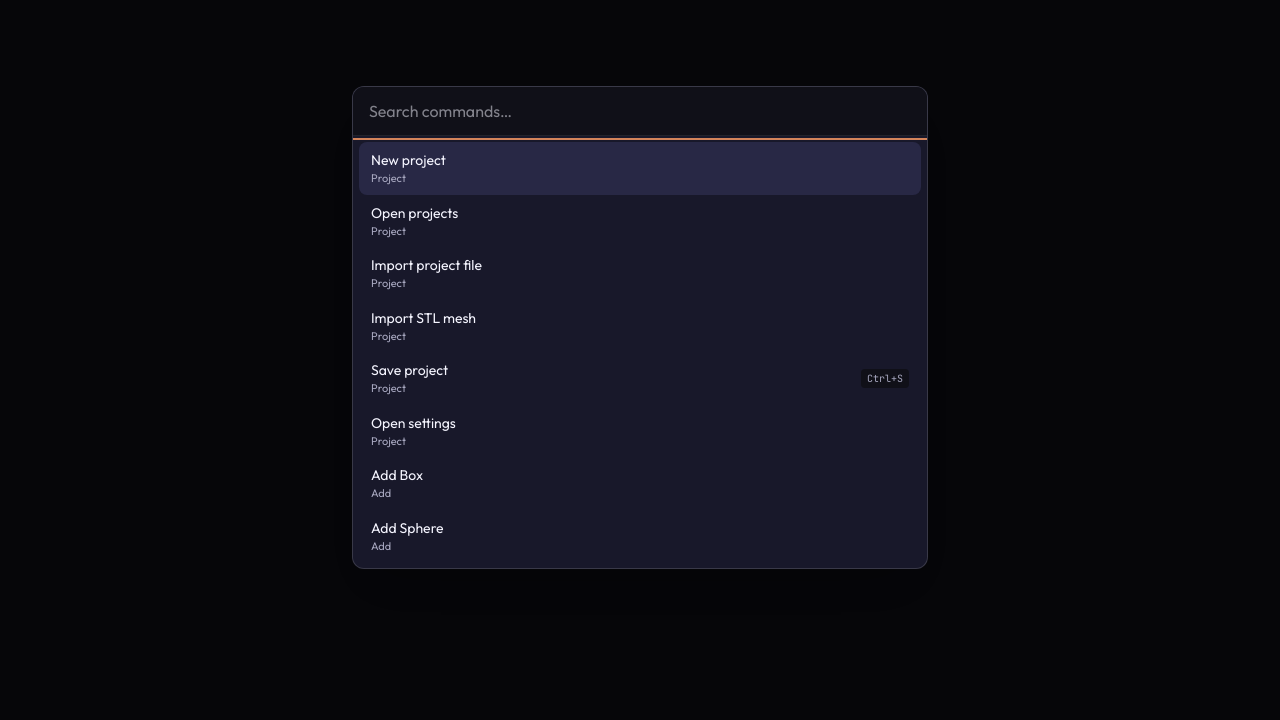
Test: CommandPalette › shows disabled reasons instead of hiding invalid actions
The image size is (1280, 720).
Type "delete selected" into the field labelled "Search commands". click: (640, 112)
box: [353,87,927,136]
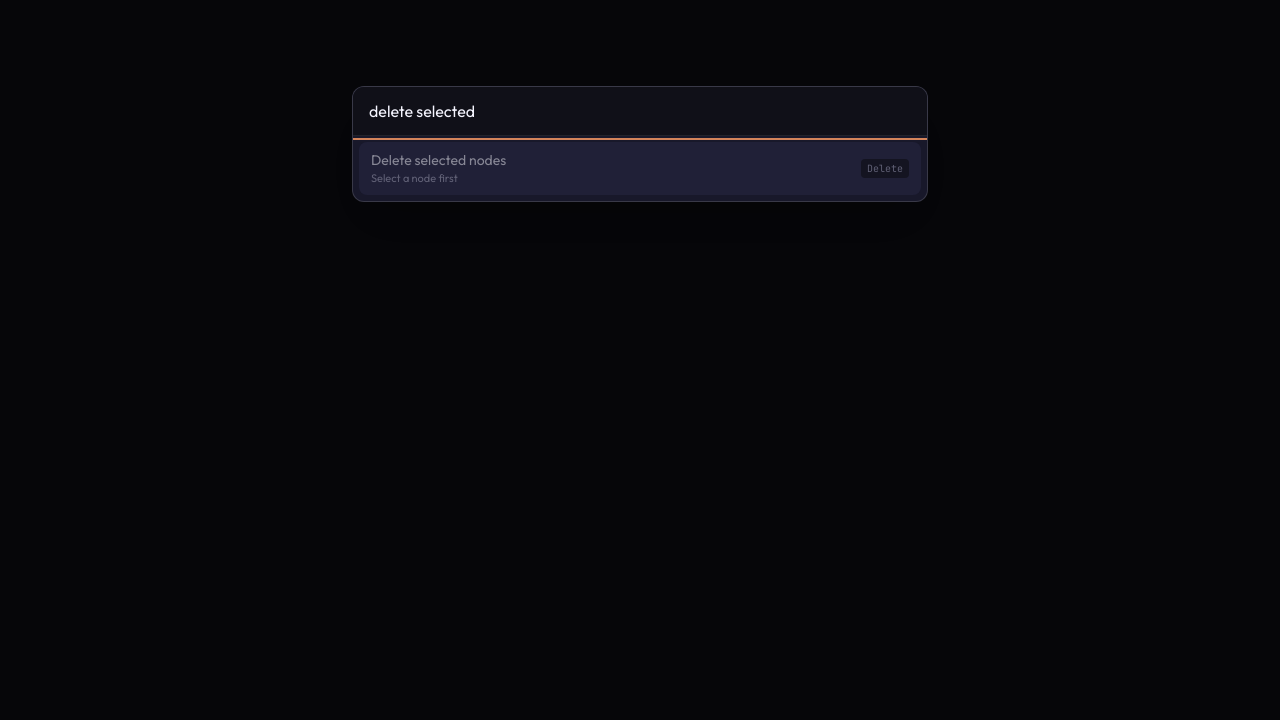
Expected: the option "Delete selected nodes Select a node first Delete" is disabled, [359,142,921,195]
